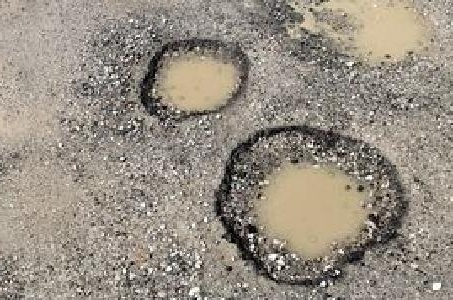pothole: (207, 120, 412, 289), (275, 0, 439, 74), (137, 34, 253, 119)
